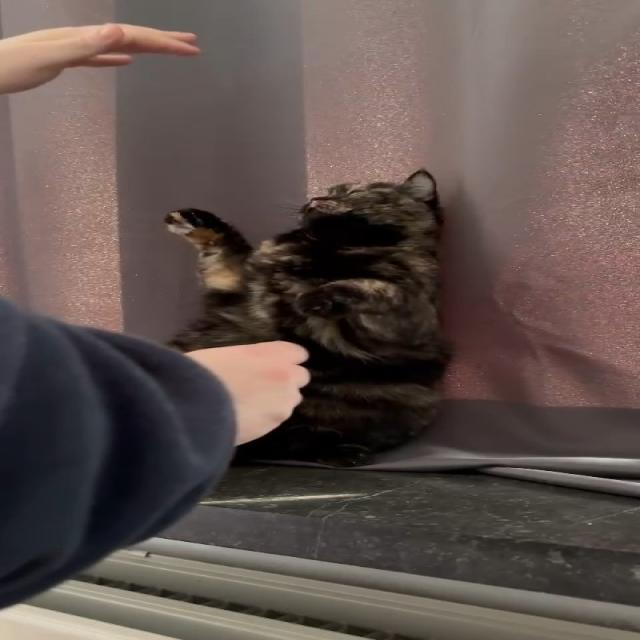authorized: (161, 167, 455, 468)
